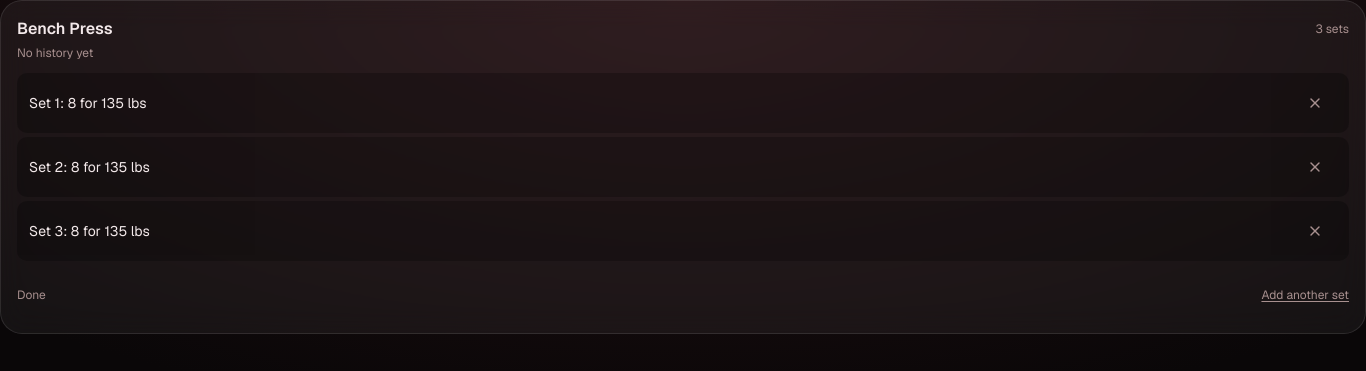
Test: the finished card state › brings the row back when another set is asked for
Click the button "Add another set" at [1305, 295], box [1261,273,1349,317]
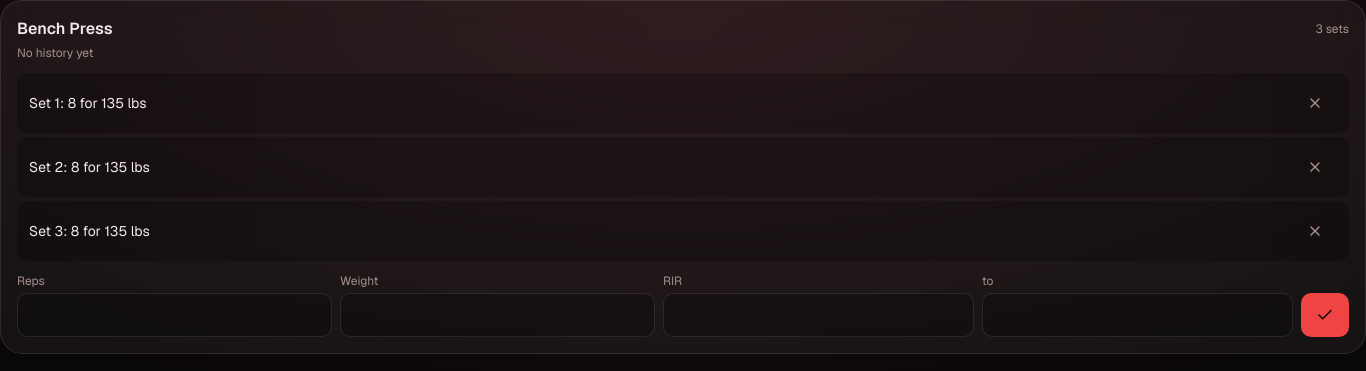
Now the button named "Log set" is shown, box [1301,293,1349,337]
